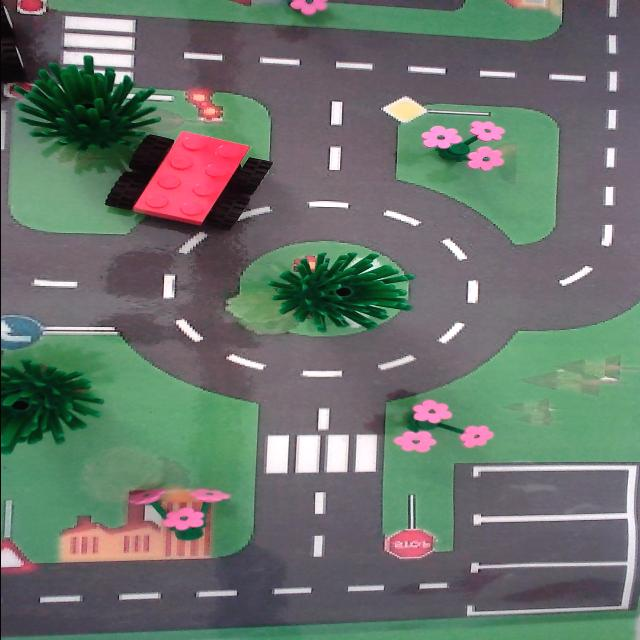Car: (94, 132, 282, 228)
Flower: (377, 392, 508, 468), (406, 108, 532, 186), (124, 474, 235, 548)
Tree: (259, 242, 431, 336), (17, 55, 161, 160), (0, 354, 108, 464)
